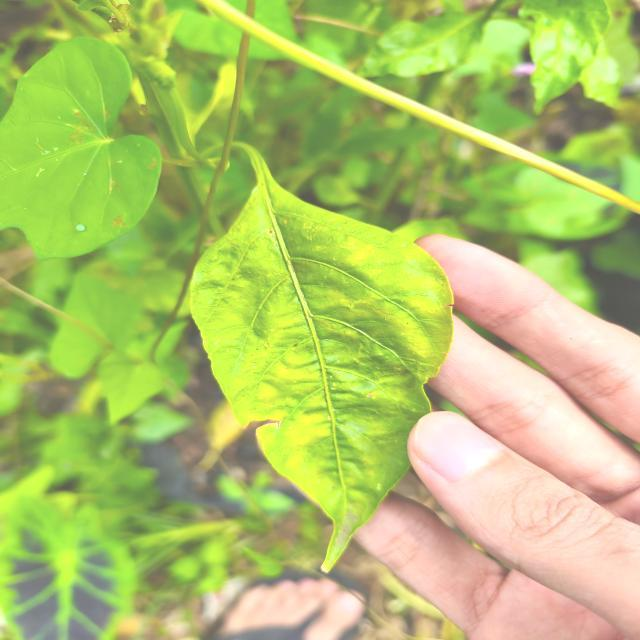Virus Kuning: (188, 181, 457, 574)
